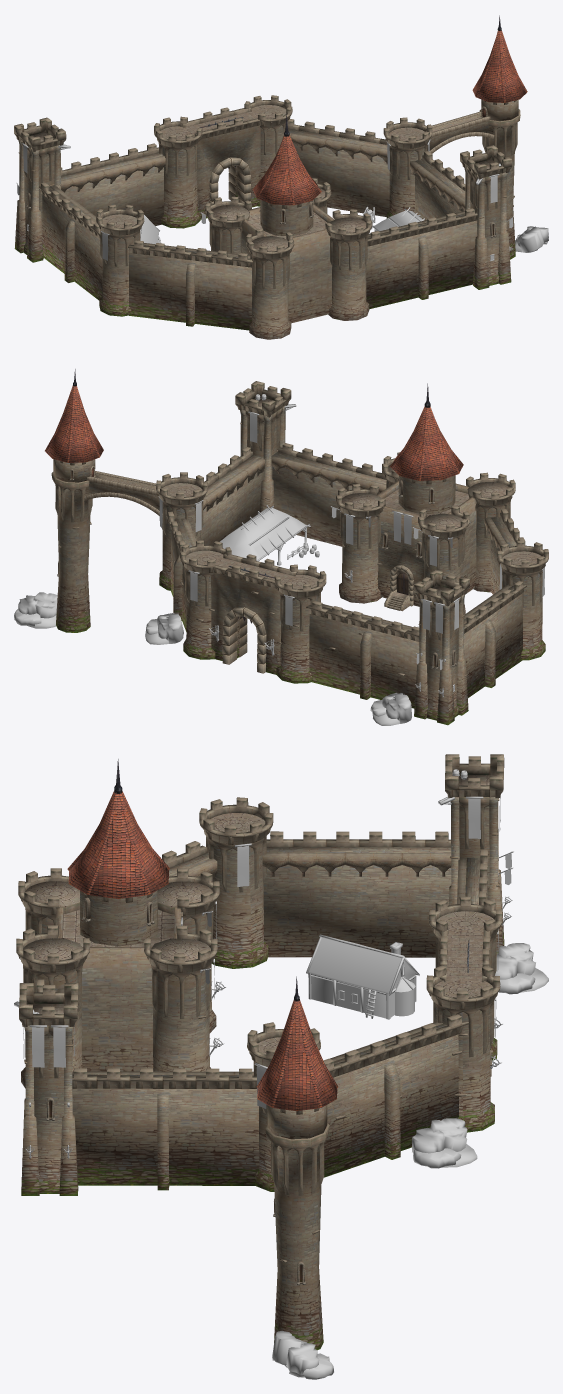
File: Castle.fbx
3 views of the same model, one above another, from view 1: azimuth 30°, elevation 25°; view 2: azimuth 150°, elevation 25°; view 3: azimuth 270°, elevation 25° (orthographic). The views are drawn at different scales.
Visible parts, largest first — view 1: Castle; view 2: Castle; view 3: Castle.
Boxes of the visible parts, bbox=[...] form: Castle: bbox=[14, 15, 548, 339]; Castle: bbox=[14, 369, 548, 725]; Castle: bbox=[14, 754, 548, 1379].
Bounding box in the file's own units: 5329 × 2734 × 3435.
